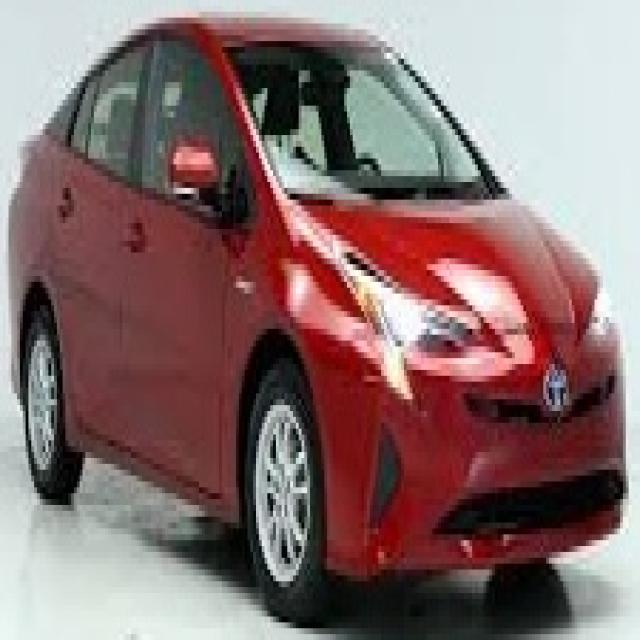red: (8, 16, 630, 584)
